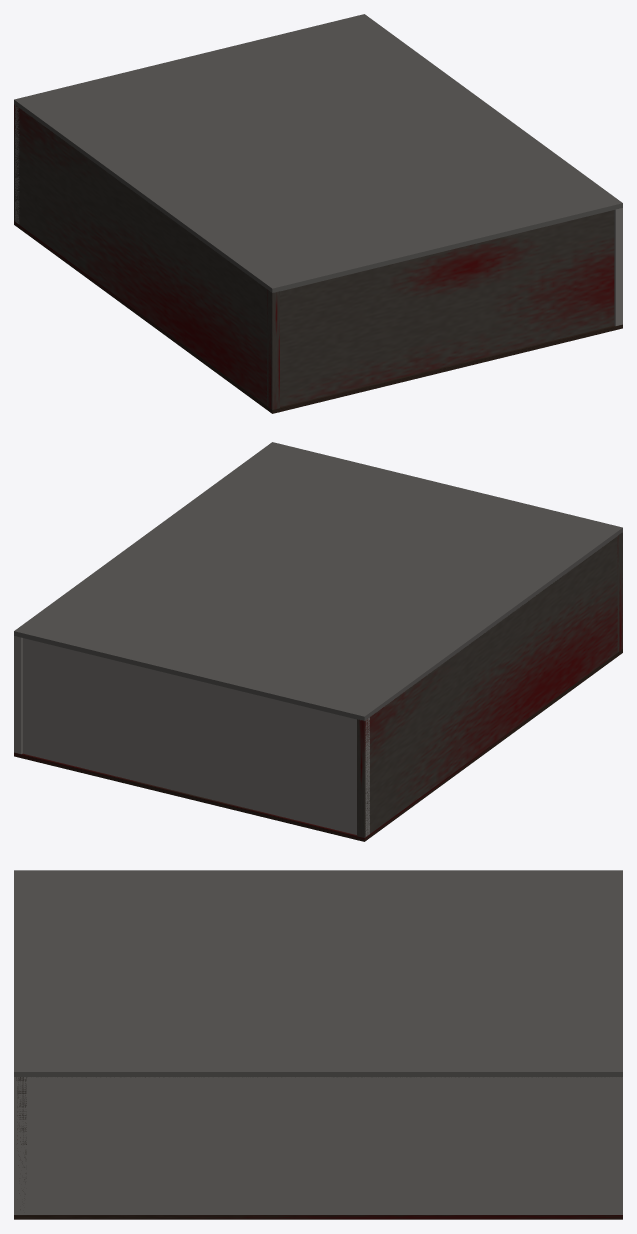
File: killer_house.glb
3 renders of one model, top to bottom at view 1: azimuth 30°, elevation 25°; view 2: azimuth 150°, elevation 25°; view 3: azimuth 270°, elevation 25°, orthographic. The views are drawn at different scales.
Visible parts, largest first — view 1: House_Ceiling, Wall_Ext_South, Wall_Ext_West, House_Floor, Wall_Ext_East; view 2: House_Ceiling, Wall_Ext_North, Wall_Ext_West, House_Floor, Wall_Ext_East, Wall_Ext_South; view 3: House_Ceiling, Wall_Ext_East, House_Floor.
Part boxes in pixels (bbox=[...]): House_Ceiling: bbox=[14, 14, 622, 292]; Wall_Ext_South: bbox=[267, 210, 614, 408]; Wall_Ext_West: bbox=[14, 104, 279, 409]; House_Floor: bbox=[14, 221, 622, 413]; Wall_Ext_East: bbox=[614, 208, 622, 326]; House_Ceiling: bbox=[14, 442, 622, 720]; Wall_Ext_North: bbox=[22, 638, 369, 836]; Wall_Ext_West: bbox=[357, 532, 622, 837]; House_Floor: bbox=[14, 649, 622, 841]; Wall_Ext_East: bbox=[14, 636, 22, 754]; Wall_Ext_South: bbox=[617, 533, 621, 652]; House_Ceiling: bbox=[14, 870, 622, 1077]; Wall_Ext_East: bbox=[14, 1077, 622, 1214]; House_Floor: bbox=[14, 1215, 622, 1219].
Size of what is drawn, in the model's own units: 9.4 by 3.24 by 12.
12 materials, 6 textured.
